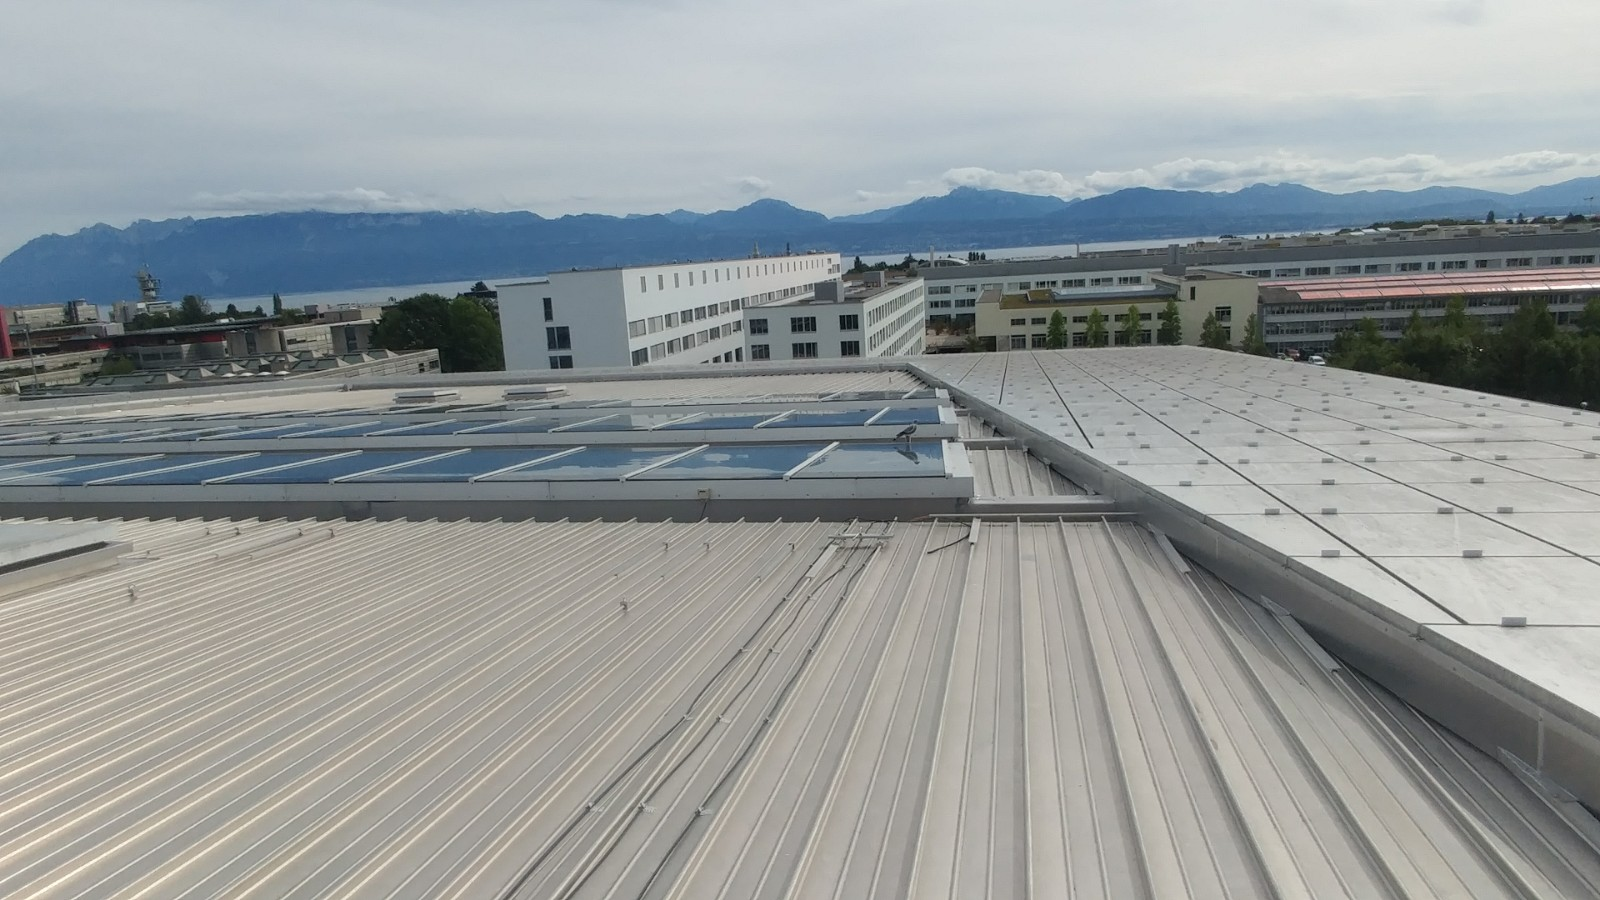Pigeon: (895, 416, 919, 446)
